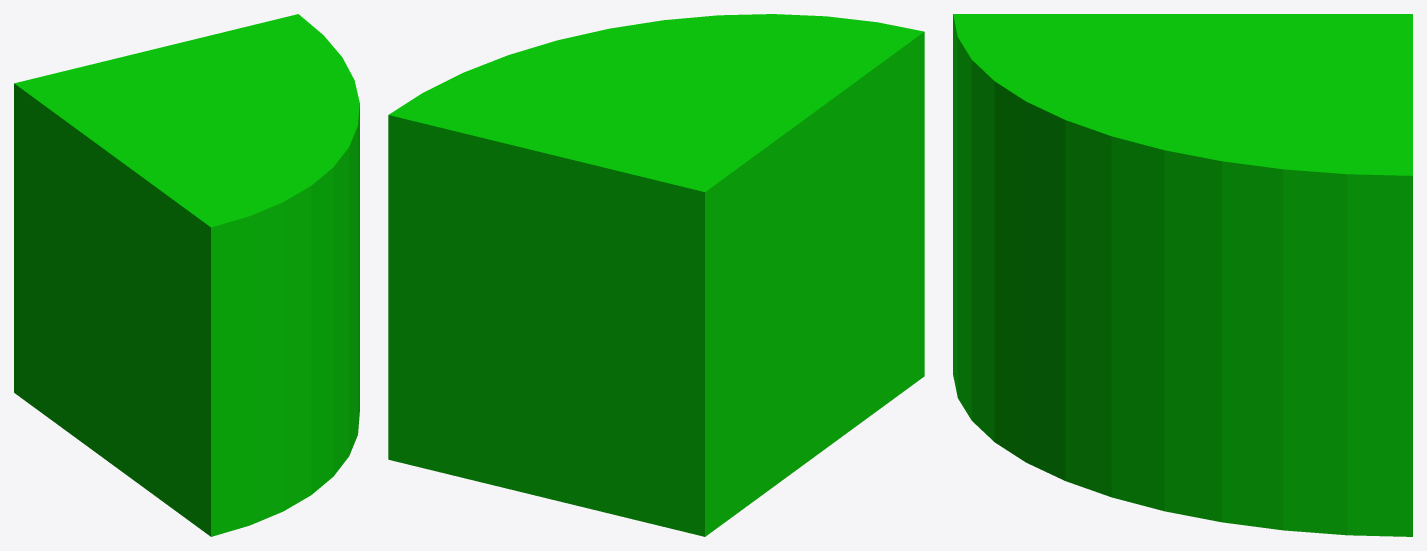
File: elbow_pad.dae
The picture shows the model from 3 angles, left to right: view 1: azimuth 30°, elevation 25°; view 2: azimuth 150°, elevation 25°; view 3: azimuth 270°, elevation 25°; orthographic projection. The views are drawn at different scales.
Visible parts, largest first — view 1: eus_glvertices; view 2: eus_glvertices; view 3: eus_glvertices.
Boxes of the visible parts, box(x1,y1,x2,y2) form: eus_glvertices: box(14, 14, 359, 536); eus_glvertices: box(388, 14, 924, 536); eus_glvertices: box(953, 14, 1412, 536).
Bounding box in the file's own units: 0.05 × 0.052 × 0.06.
